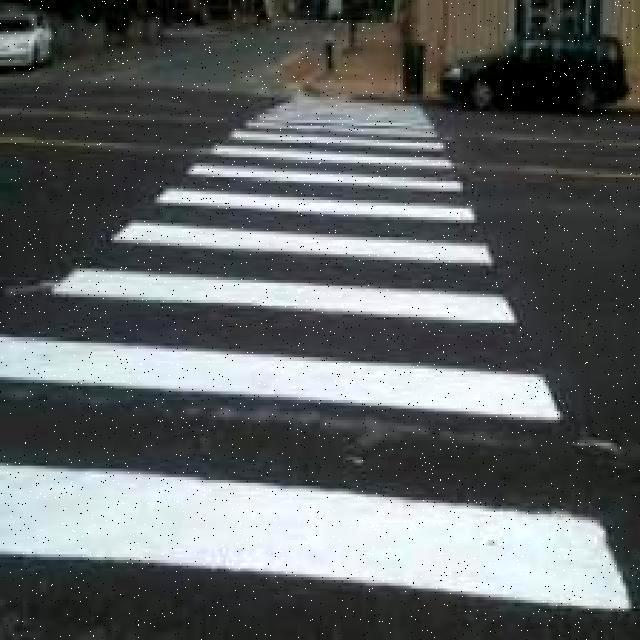crosswalk: (0, 86, 626, 639)
